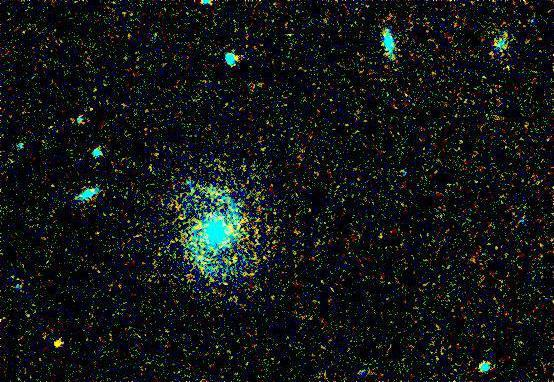star: (44, 328, 74, 358)
